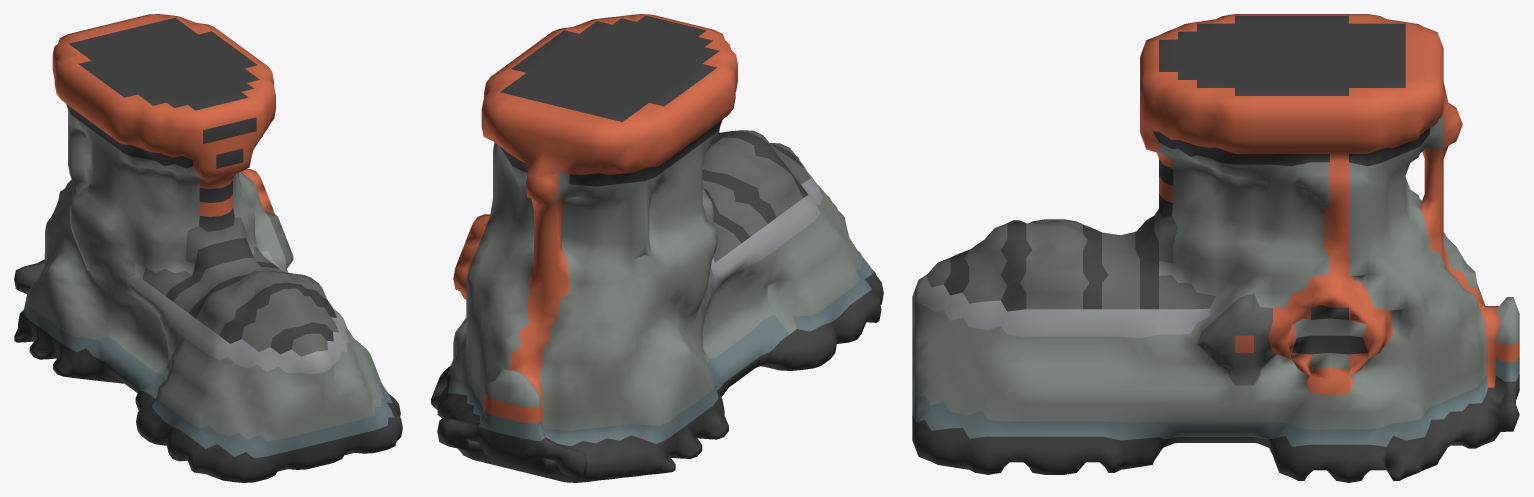
The picture shows the model from 3 angles, left to right: view 1: azimuth 30°, elevation 25°; view 2: azimuth 150°, elevation 25°; view 3: azimuth 270°, elevation 25°; orthographic projection. The views are drawn at different scales.
Size of the model in its own units: 0.85 by 1.05 by 1.6.
